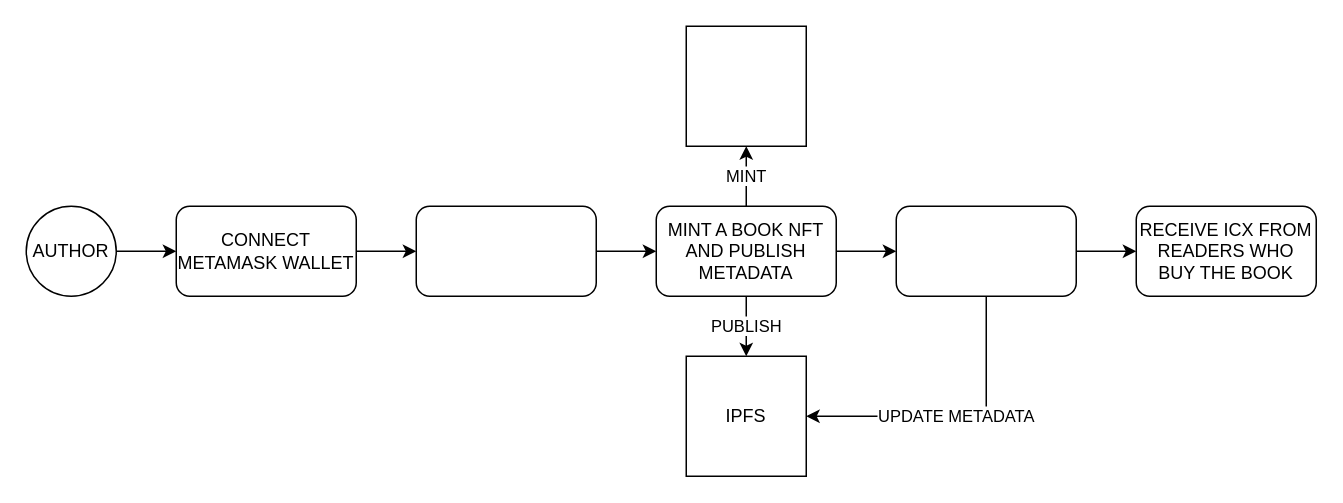
This 1343x503 diagram has some shape labels left out. Each missing label, with the centre of its shape:
"ADD CHAPTERS" goes at point 985,250.
"BookNFT Contract" goes at point 745,85.
"CREATE A BOOK" goes at point 505,250.
